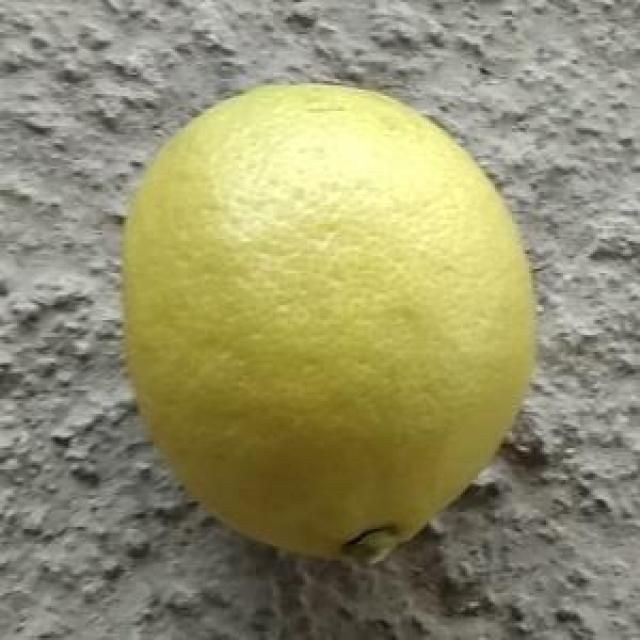lemon: (115, 85, 541, 568)
